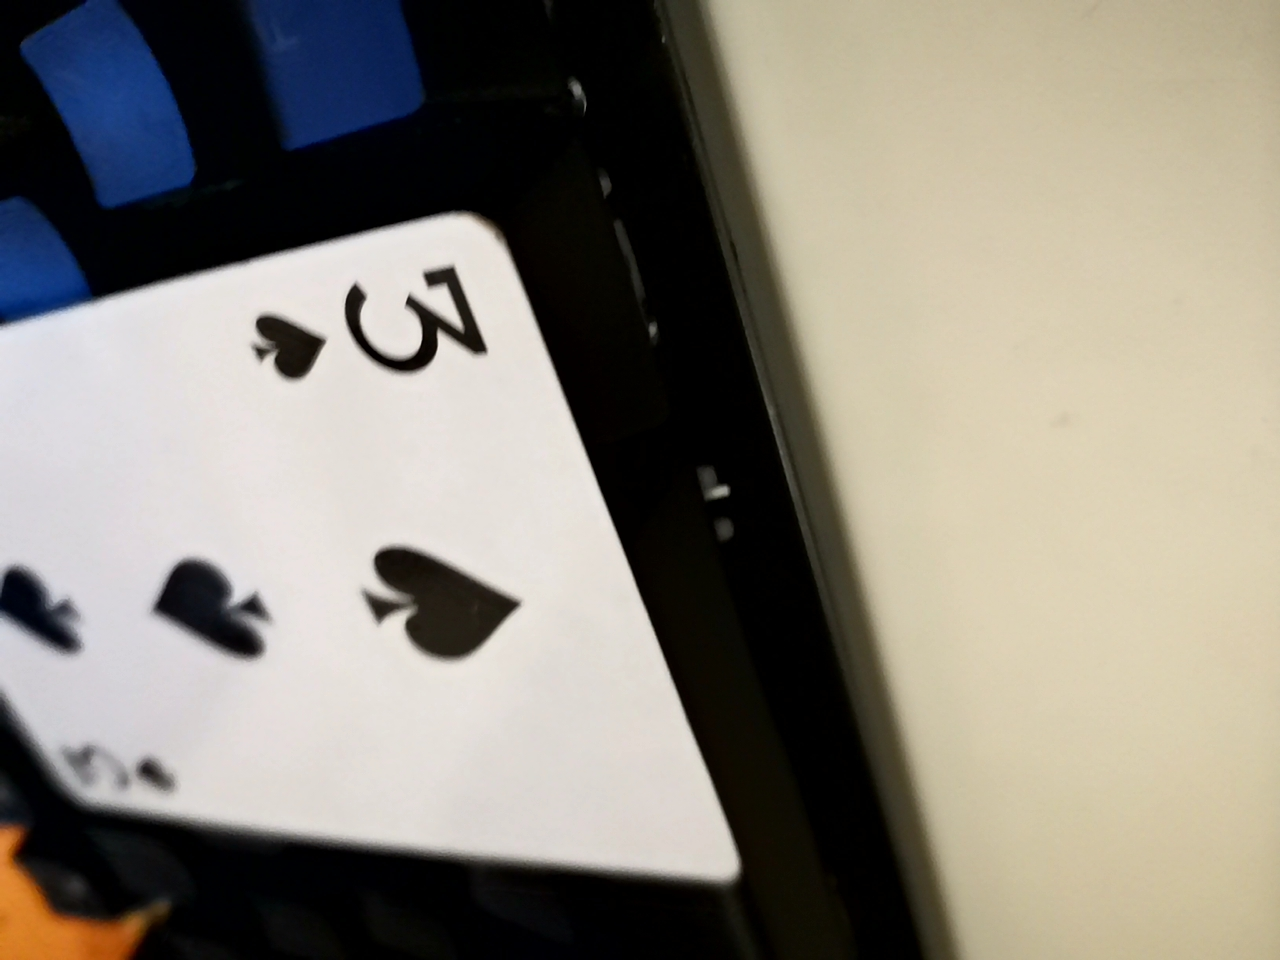ht 3: (10, 247, 745, 933)
